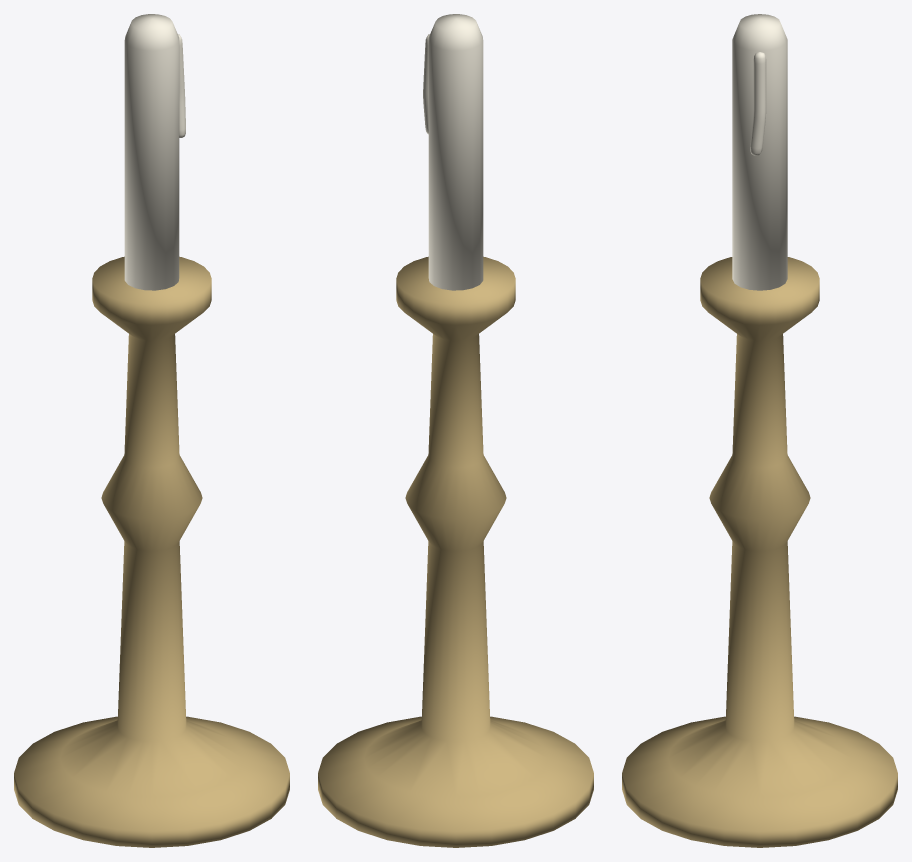
Rendered from candlestick.glb.
The picture shows the model from 3 angles, left to right: view 1: azimuth 30°, elevation 25°; view 2: azimuth 150°, elevation 25°; view 3: azimuth 270°, elevation 25°; orthographic projection.
Visible parts, largest first — view 1: candlestick; view 2: candlestick; view 3: candlestick.
Boxes of the visible parts, x1,y1,x2,y2 form: candlestick: (14, 14, 289, 847); candlestick: (318, 14, 593, 847); candlestick: (622, 14, 897, 847).
Bounding box in the file's own units: 0.12 × 0.37 × 0.12.
